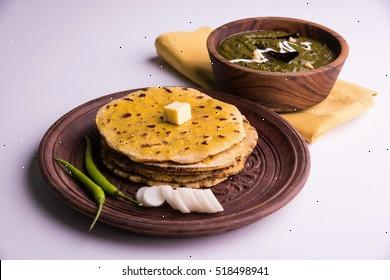saag: (218, 27, 338, 76)
